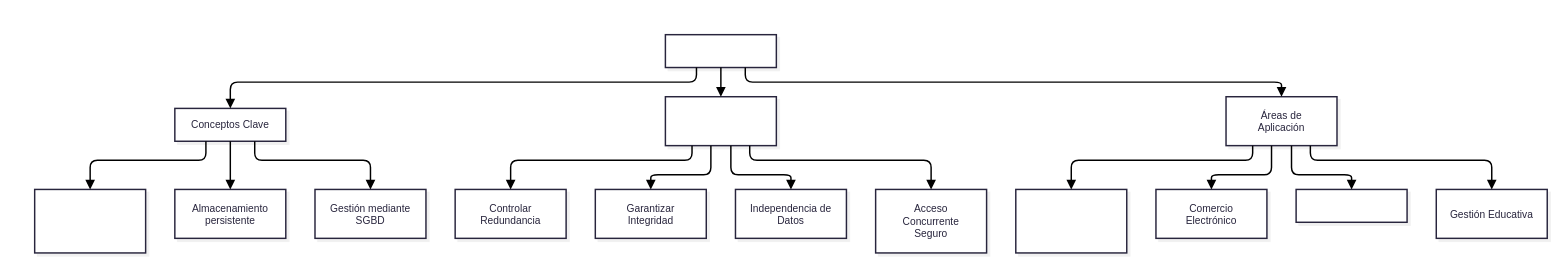
Some shapes in this 1563 by 269 pixel diagram are drawn without their labels. The shapes that lost their labels are listed below. From the top down, each one's centre as x and y in pixels, then its label:
At point 722,52: "Bases de Datos".
At point 722,122: "Objetivos Principales".
At point 91,222: "Colección estructurada de datos".
At point 1072,222: "Sistemas Bancarios y Financieros".
At point 1352,207: "Sector Salud".
